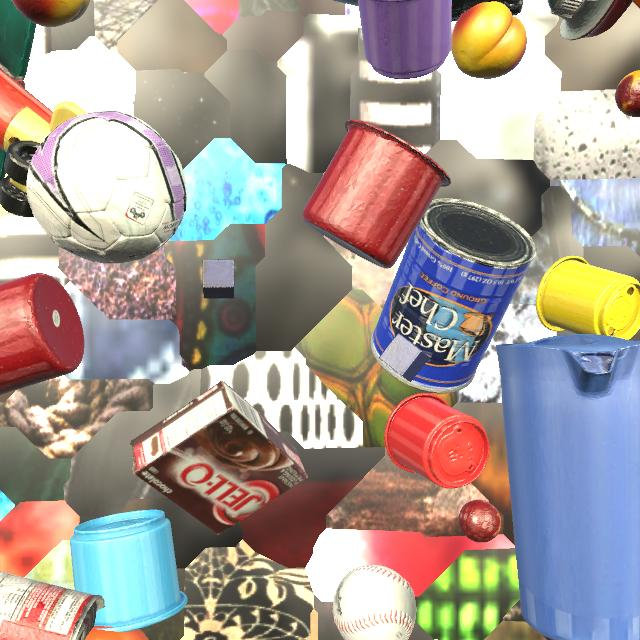ycb_002_master_chef_can: (371, 198, 537, 393)
ycb_005_tomato_soup_can: (0, 571, 105, 640)
ycb_008_pudding_box: (130, 380, 308, 535)
ycb_015_peach: (451, 2, 527, 79), (12, 0, 90, 27)
ycb_017_orange: (85, 626, 149, 640)
